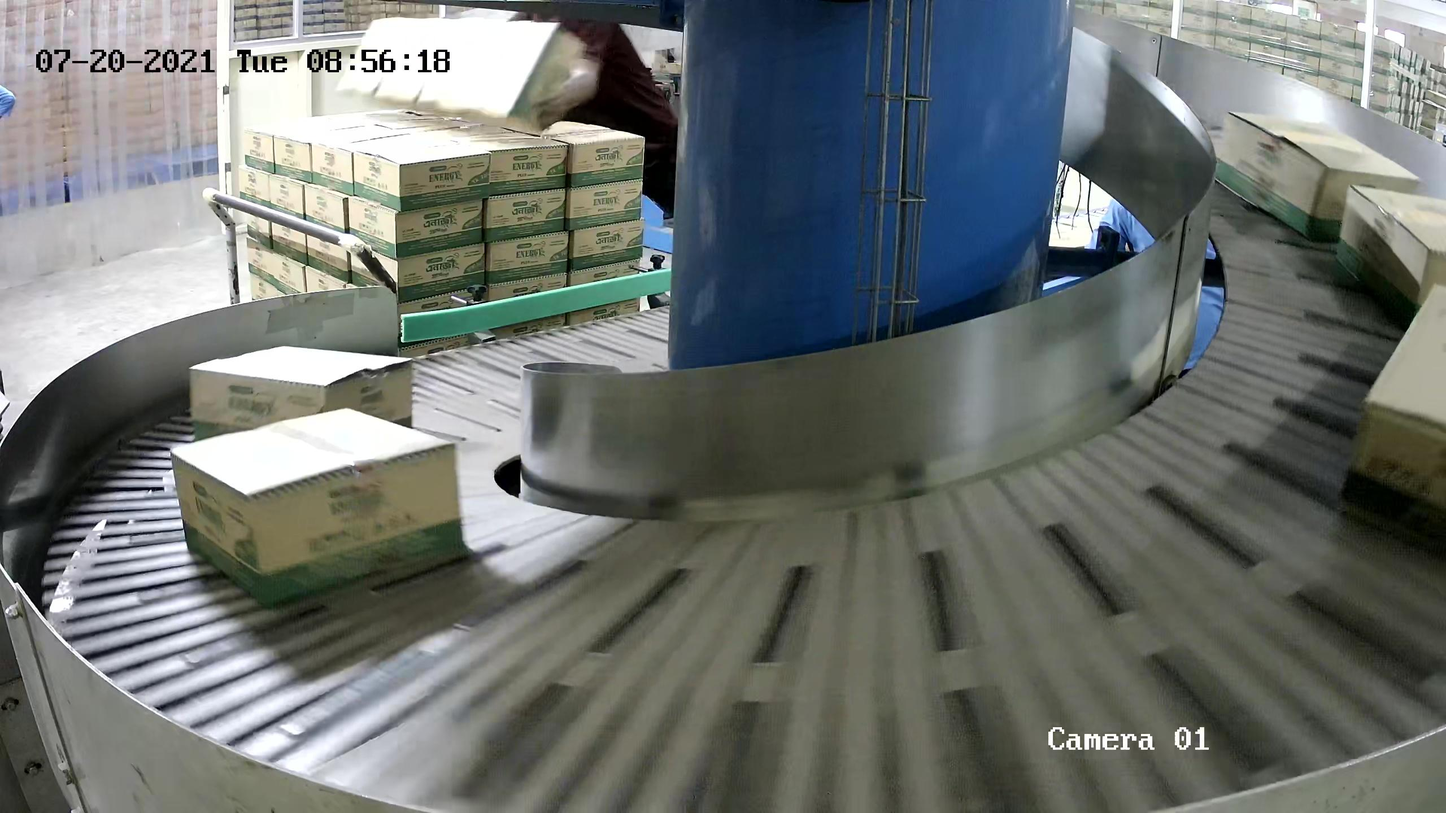Box: (171, 407, 470, 610), (1339, 281, 1446, 573), (1208, 110, 1423, 253), (190, 342, 419, 471), (1334, 182, 1446, 336)
